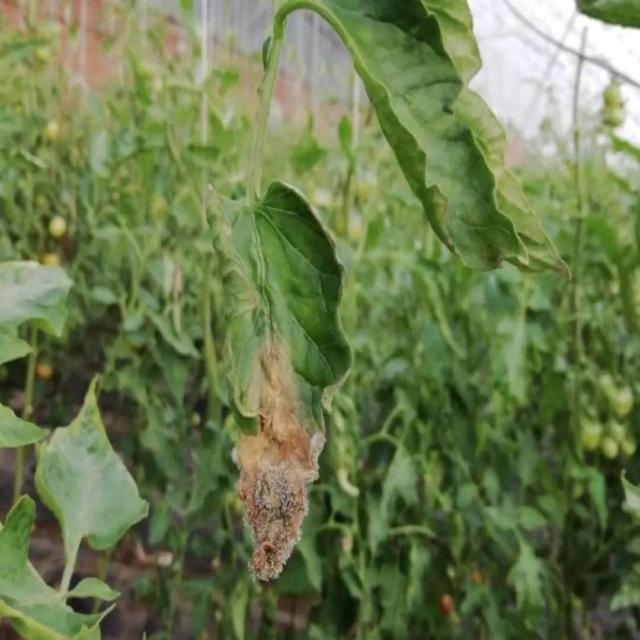Early_blight: (229, 318, 333, 581)
